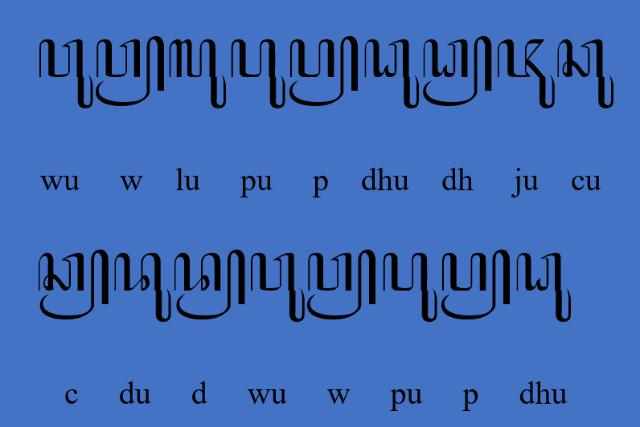-c: (37, 248, 111, 322)
-d: (175, 249, 248, 321)
-dh: (422, 35, 494, 107)
-p: (440, 249, 512, 321), (289, 34, 359, 108)
-w: (307, 248, 377, 322), (96, 35, 166, 107)
cu: (558, 37, 616, 109)
dhu: (362, 37, 420, 111), (516, 252, 572, 324)
du: (114, 250, 172, 324)
ju: (497, 38, 557, 110)
lu: (168, 38, 226, 110)
pu: (382, 252, 440, 324), (231, 38, 287, 110)
wu: (38, 38, 94, 110), (249, 252, 305, 324)
